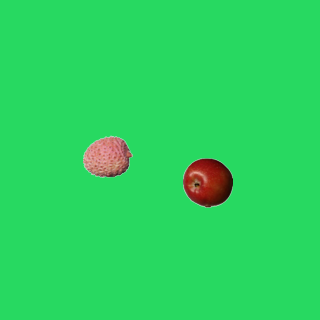Apple Braeburn: (182, 157, 232, 207)
Lychee: (82, 131, 132, 181)
